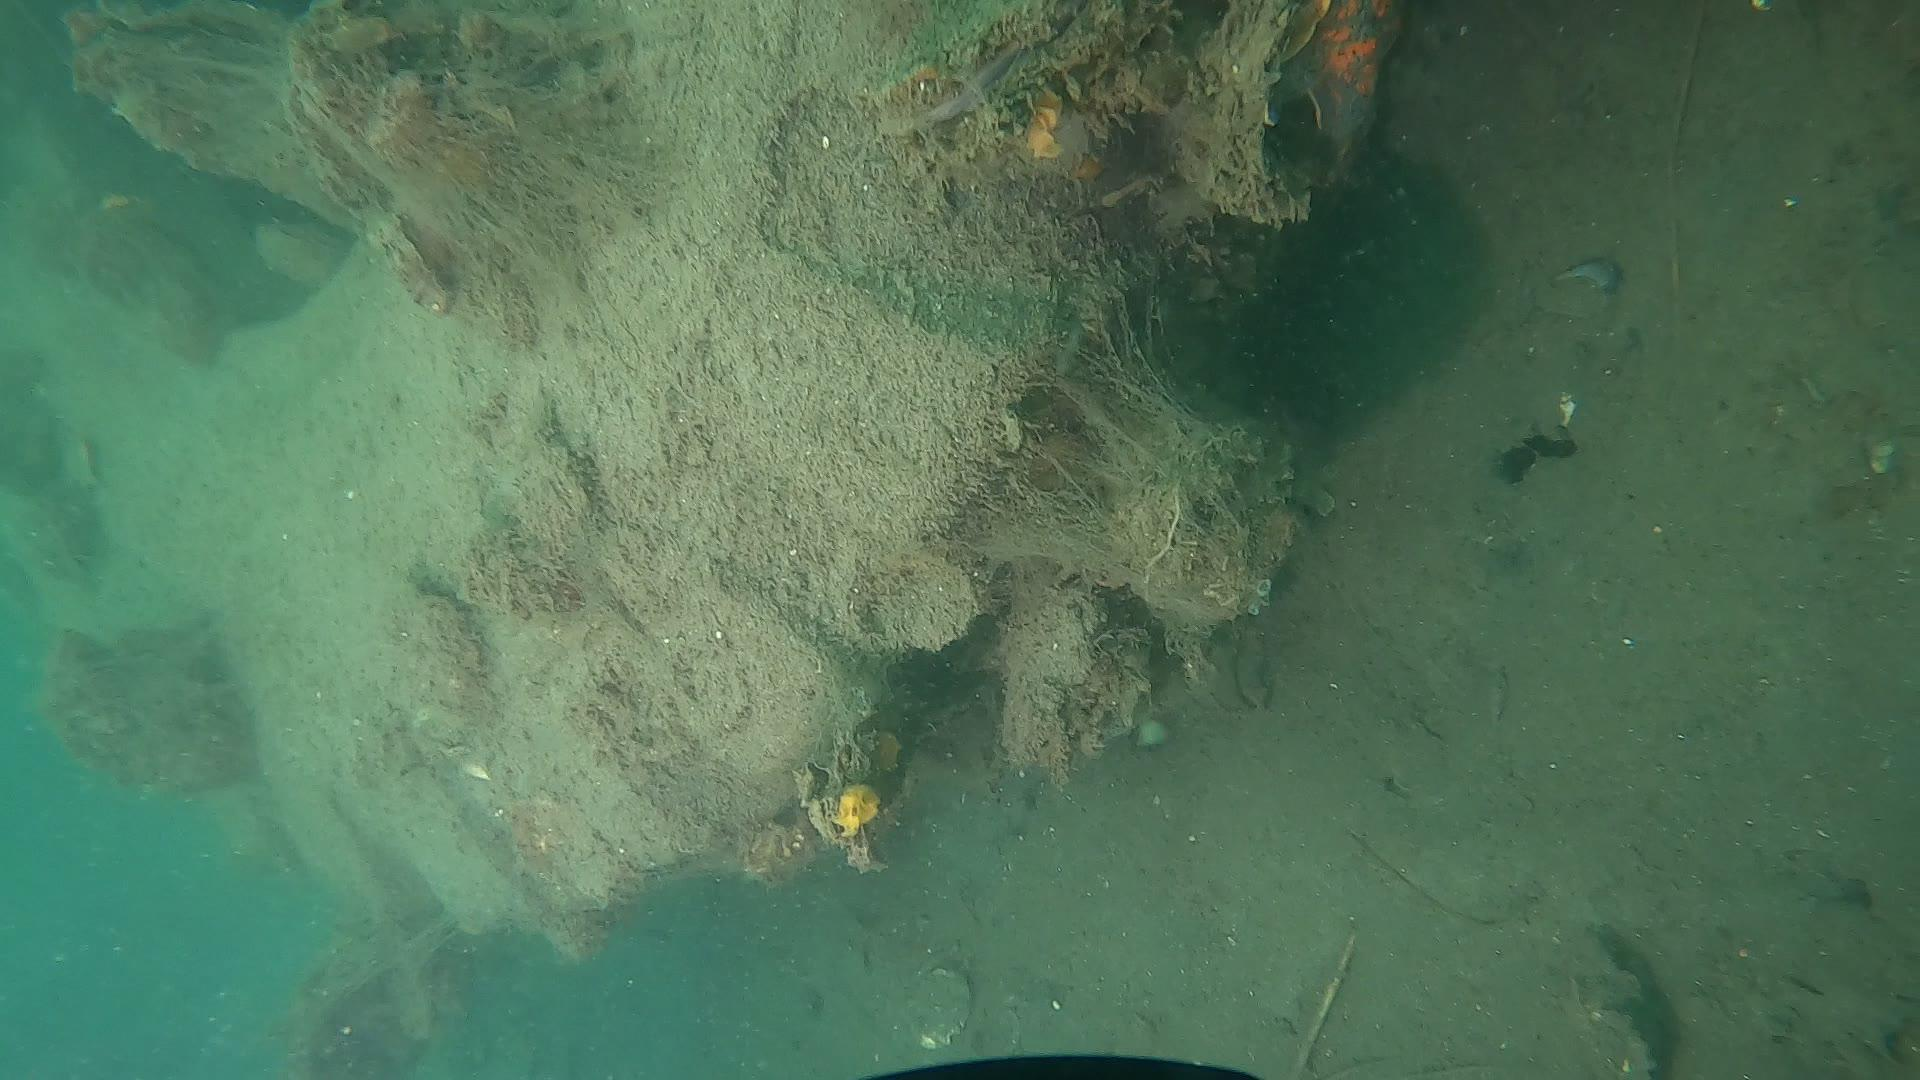tire: (0, 0, 1104, 940)
